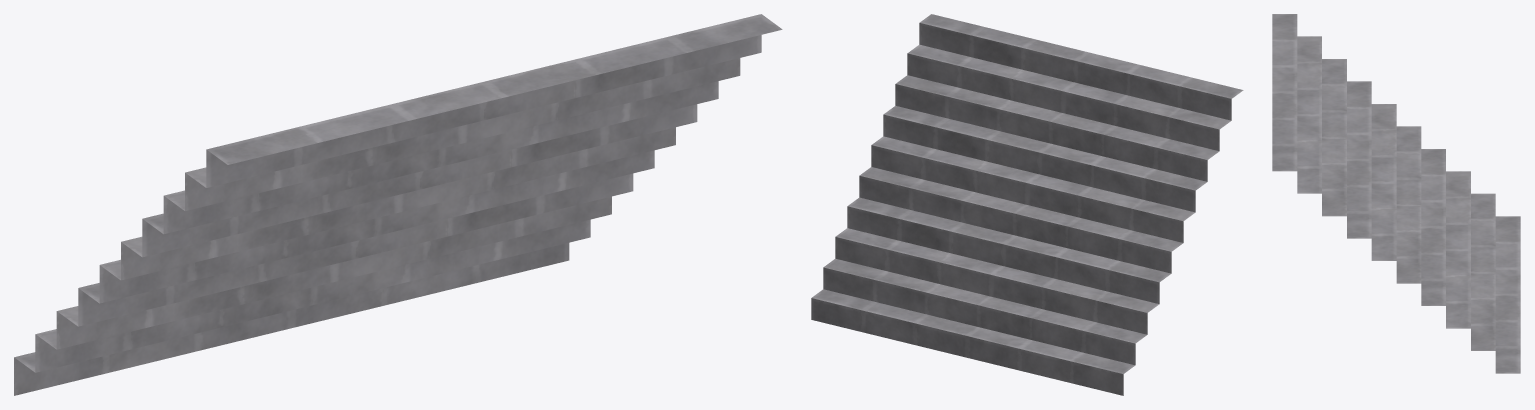
The model's file is Stair_2h_B.fbx.
3 renders of one model, left to right at view 1: azimuth 30°, elevation 25°; view 2: azimuth 150°, elevation 25°; view 3: azimuth 270°, elevation 25°, orthographic. The views are drawn at different scales.
Visible parts, largest first — view 1: Stair_2h_B; view 2: Stair_2h_B; view 3: Stair_2h_B.
Boxes of the visible parts, left/top/right/bottom form: Stair_2h_B: left=14, top=14, right=782, bottom=395; Stair_2h_B: left=811, top=14, right=1243, bottom=395; Stair_2h_B: left=1272, top=14, right=1520, bottom=373.
Bounding box in the file's own units: 3 × 2 × 2.
